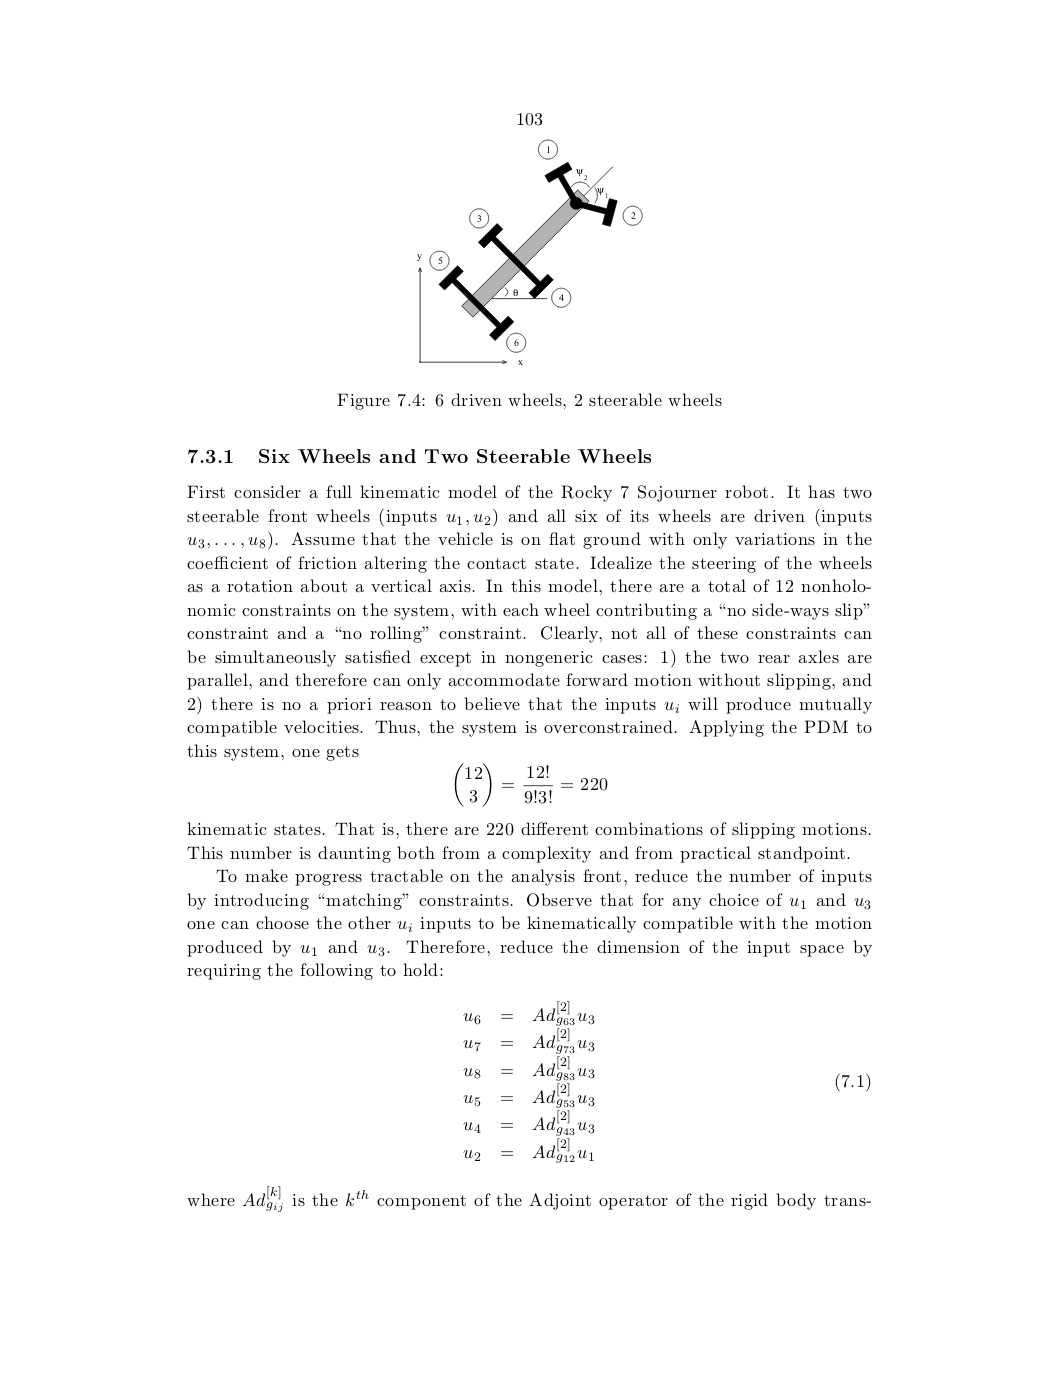figure: (417, 138, 642, 366)
formula: (463, 1000, 870, 1163), (454, 763, 607, 806)
